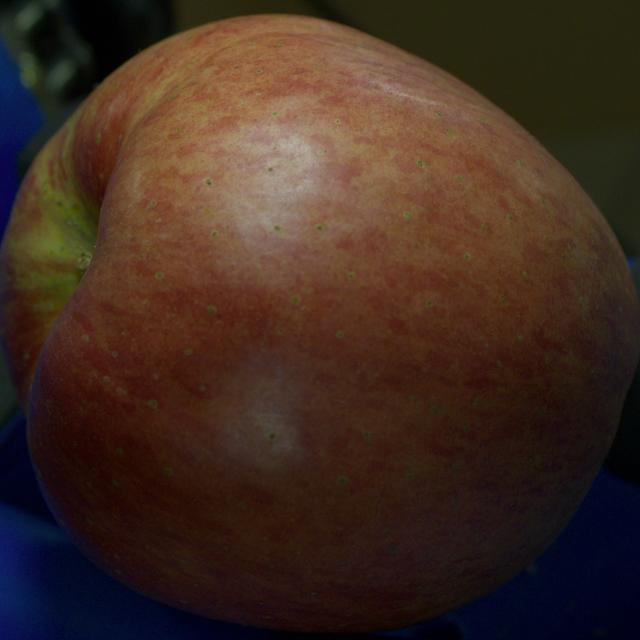apple: (0, 16, 639, 632)
